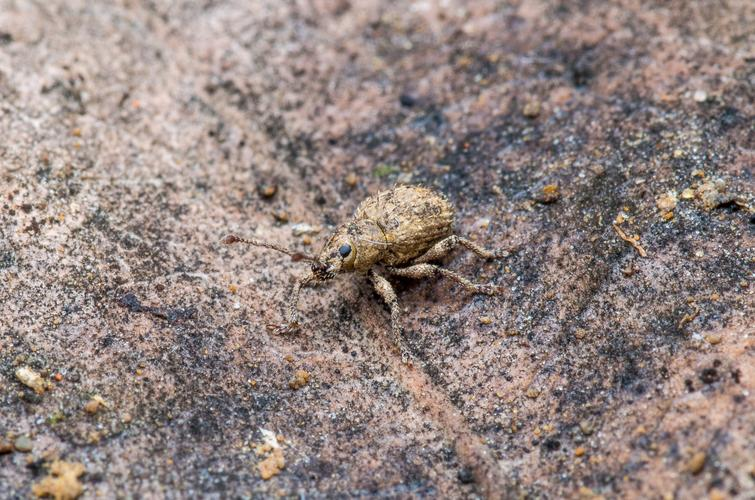Curculionidae: (219, 182, 517, 369)
